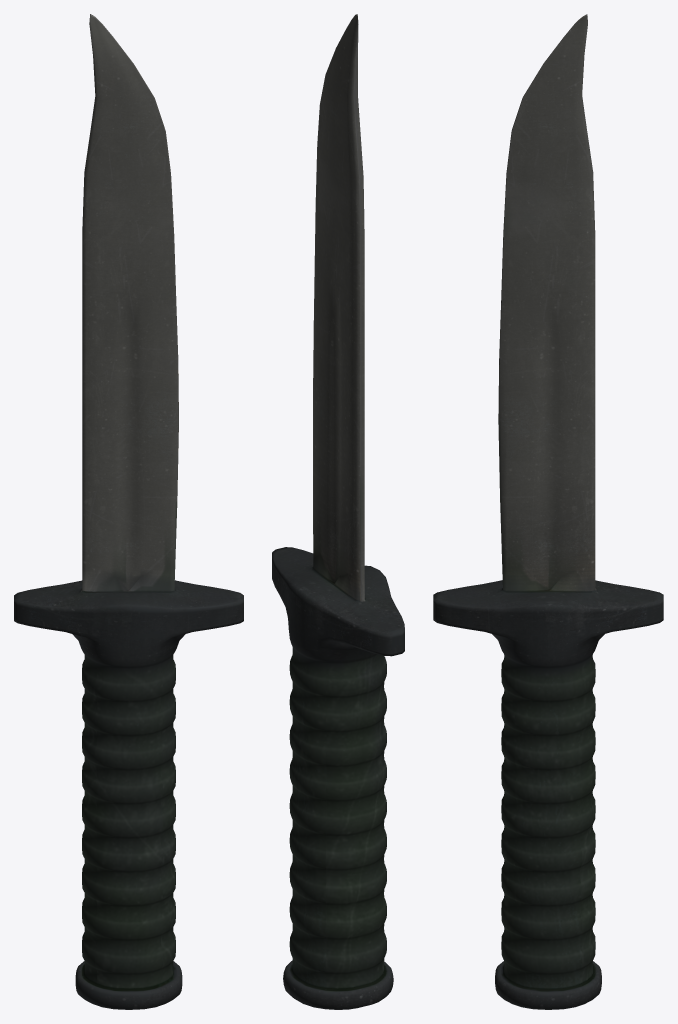
The picture shows the model from 3 angles, left to right: view 1: azimuth 90°, elevation 25°; view 2: azimuth 210°, elevation 25°; view 3: azimuth 270°, elevation 25°; orthographic projection.
Parts seen in each view (by area): view 1: Geode; view 2: Geode; view 3: Geode.
Boxes of the visible parts, bbox=[...] form: Geode: bbox=[14, 14, 243, 1009]; Geode: bbox=[272, 14, 404, 1009]; Geode: bbox=[433, 14, 663, 1009].
Size of the model in its own units: 1.14 by 11.43 by 2.45.
1 material, 1 textured.
